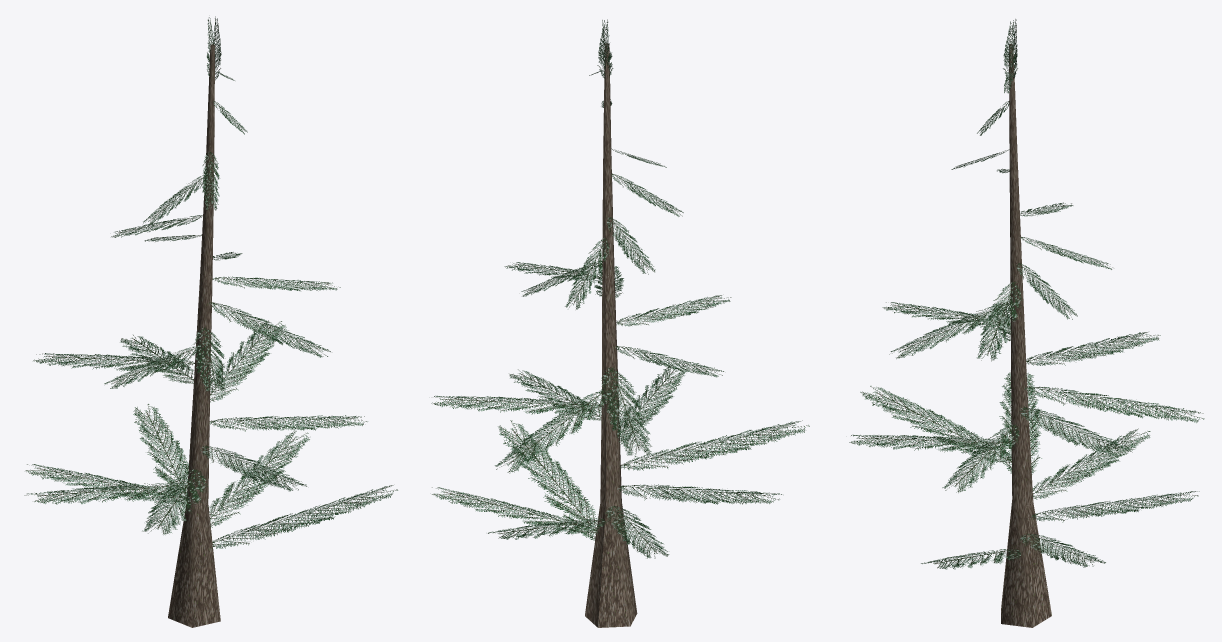
Rendered from pinheiro_nv_c_lo.glb.
3 views of the same model, side by side, from view 1: azimuth 30°, elevation 25°; view 2: azimuth 150°, elevation 25°; view 3: azimuth 270°, elevation 25° (orthographic).
Visible parts, largest first — view 1: pinheiro_nv_c_lo; view 2: pinheiro_nv_c_lo; view 3: pinheiro_nv_c_lo.
Part boxes in pixels (x1,y1,x2,y2): pinheiro_nv_c_lo: (24, 16, 397, 627); pinheiro_nv_c_lo: (431, 19, 809, 627); pinheiro_nv_c_lo: (849, 19, 1204, 627).
Bounding box in the file's own units: 5.85 × 10.01 × 5.44.
Materials: 2 (2 with a texture image).
